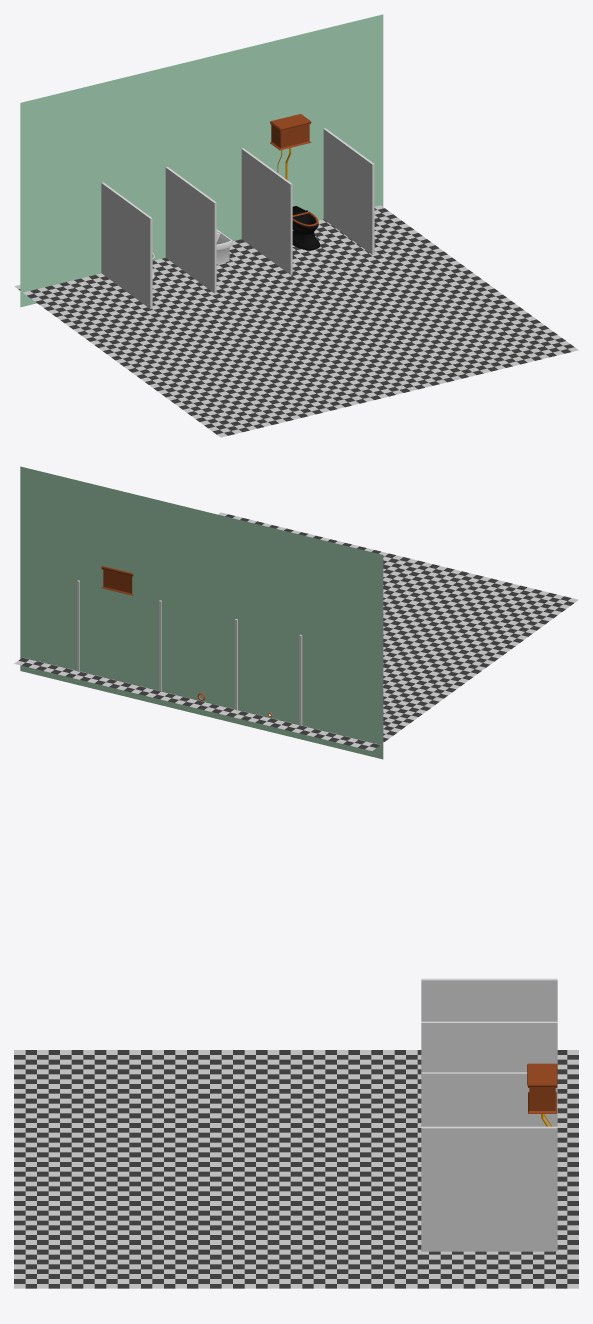
The model's file is toiletScene.fbx.
The picture shows the model from 3 angles, top to bottom: view 1: azimuth 30°, elevation 25°; view 2: azimuth 150°, elevation 25°; view 3: azimuth 270°, elevation 25°; orthographic projection. The views are drawn at different scales.
Parts seen in each view (by area): view 1: Grid, Plane, Cube.003, Cube.005, Cube.002, Cube.004, waterholder, toilet.001; view 2: Plane, Grid, waterholder; view 3: Grid, Cube.004, Cube.002, Cube.003, Cube.005, waterholder.
Boxes of the visible parts, x1=… form: Grid: x1=14, y1=205, x2=578, y2=437; Plane: x1=20, y1=14, x2=383, y2=307; Cube.003: x1=241, y1=148, x2=292, y2=274; Cube.005: x1=101, y1=182, x2=152, y2=308; Cube.002: x1=165, y1=167, x2=216, y2=293; Cube.004: x1=323, y1=128, x2=374, y2=254; waterholder: x1=270, y1=114, x2=311, y2=150; toilet.001: x1=285, y1=147, x2=320, y2=250; Plane: x1=20, y1=466, x2=383, y2=759; Grid: x1=14, y1=512, x2=578, y2=750; waterholder: x1=101, y1=566, x2=133, y2=595; Grid: x1=14, y1=1050, x2=578, y2=1288; Cube.004: x1=421, y1=1126, x2=557, y2=1251; Cube.002: x1=421, y1=1021, x2=557, y2=1072; Cube.003: x1=421, y1=1072, x2=557, y2=1126; Cube.005: x1=421, y1=978, x2=557, y2=1021; waterholder: x1=527, y1=1063, x2=557, y2=1113.
Size of the model in its own units: 4347 by 2340 by 4289.
